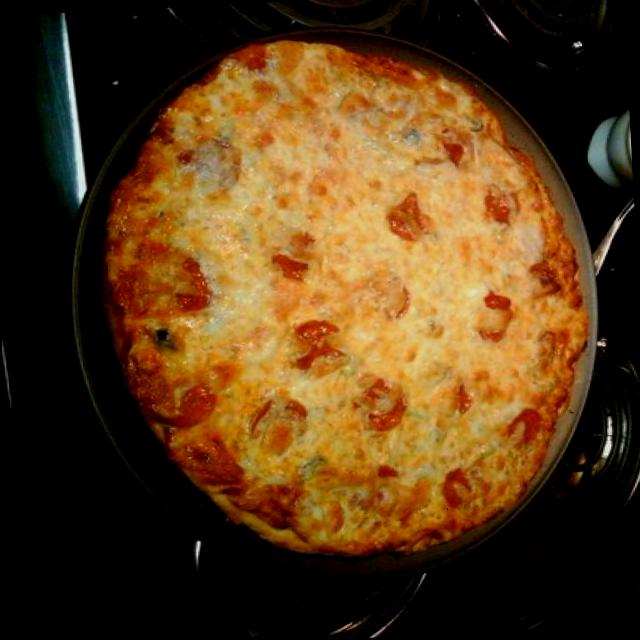pepperoni: (164, 260, 229, 328), (287, 312, 350, 371), (245, 390, 317, 439), (424, 462, 482, 522), (353, 374, 411, 432), (487, 408, 546, 458), (476, 286, 520, 344), (425, 133, 475, 175), (266, 250, 318, 290), (476, 187, 512, 234)
pizza: (105, 41, 586, 553)
